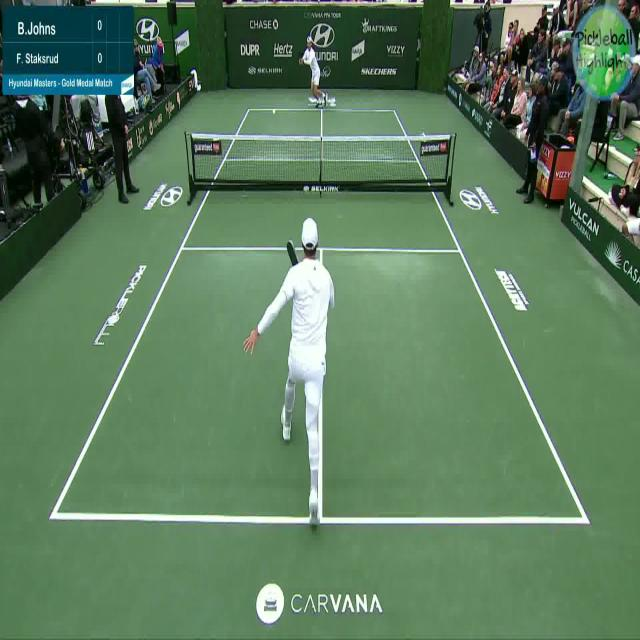ball: (272, 108, 276, 115)
